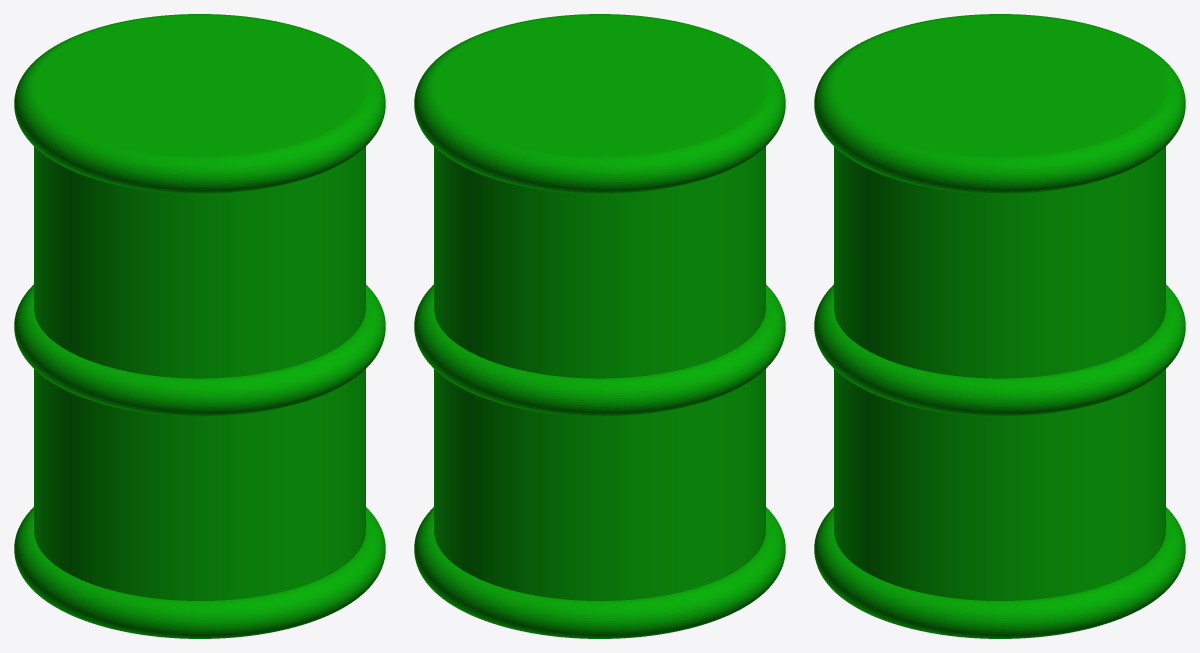
File: Barrel_Green.dae
3 renders of one model, left to right at view 1: azimuth 30°, elevation 25°; view 2: azimuth 150°, elevation 25°; view 3: azimuth 270°, elevation 25°, orthographic.
Visible parts, largest first — view 1: node0; view 2: node0; view 3: node0.
Part boxes in pixels (x1=…): node0: x1=14, y1=14, x2=385, y2=638; node0: x1=414, y1=14, x2=785, y2=638; node0: x1=814, y1=14, x2=1185, y2=638.
Bounding box in the file's own units: 0.056 × 0.056 × 0.08.
